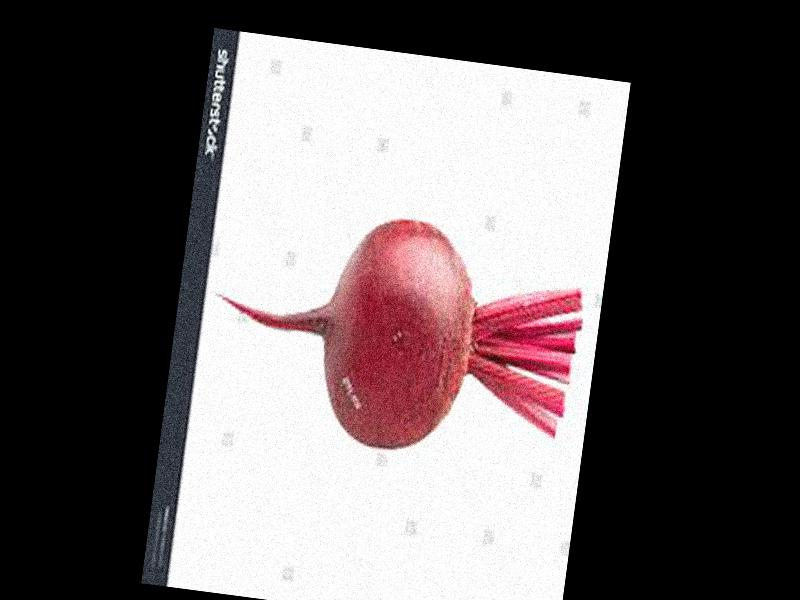Beet: (198, 196, 590, 472)
